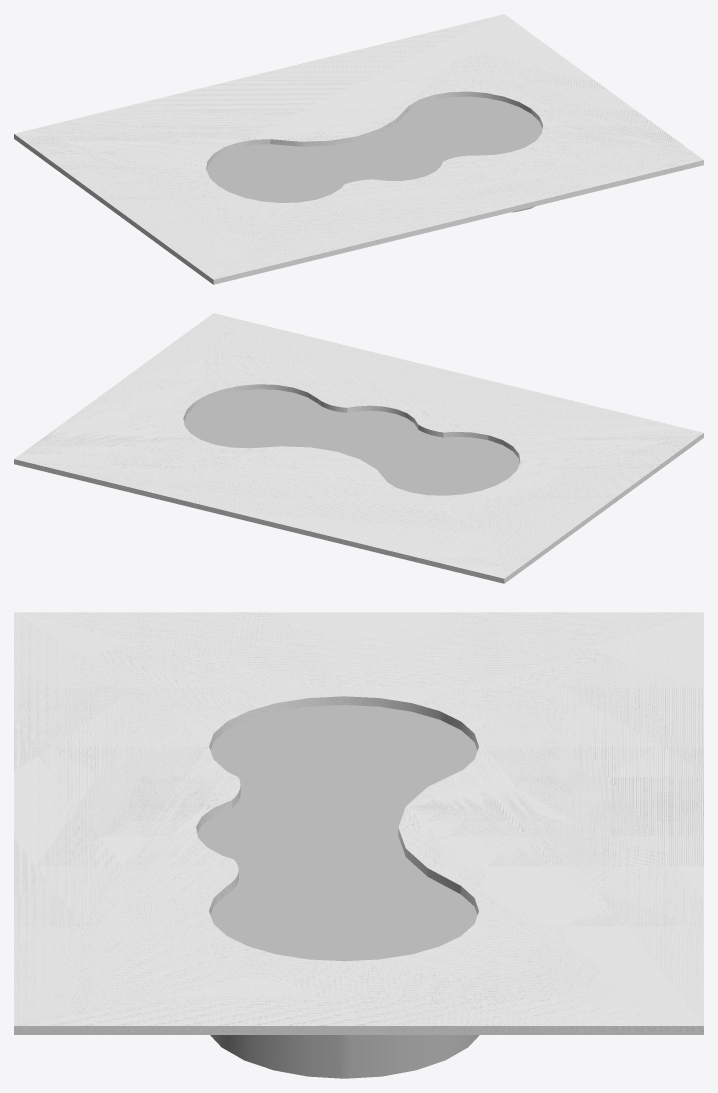
The model's file is pool.fbx.
The picture shows the model from 3 angles, top to bottom: view 1: azimuth 30°, elevation 25°; view 2: azimuth 150°, elevation 25°; view 3: azimuth 270°, elevation 25°; orthographic projection. The views are drawn at different scales.
Parts seen in each view (by area): view 1: group_96.007, group_97.001, group_96.005, group_96.006; view 2: group_96.007, group_97.001, group_96.005, group_96.006; view 3: group_96.007, group_97.001, group_97, group_96.005, group_96.006.
Part boxes in pixels (x1,y1,x2,y2): group_96.007: (14, 14, 703, 279); group_97.001: (206, 96, 542, 202); group_96.005: (14, 134, 703, 284); group_96.006: (206, 91, 542, 170); group_96.007: (14, 313, 703, 578); group_97.001: (184, 389, 519, 495); group_96.005: (14, 433, 703, 583); group_96.006: (183, 384, 520, 462); group_96.007: (14, 612, 703, 1025); group_97.001: (197, 705, 477, 961); group_97: (210, 1035, 479, 1078); group_96.005: (14, 1026, 703, 1034); group_96.006: (196, 696, 478, 914).
Bounding box in the file's own units: 60800 × 7798 × 42833.
